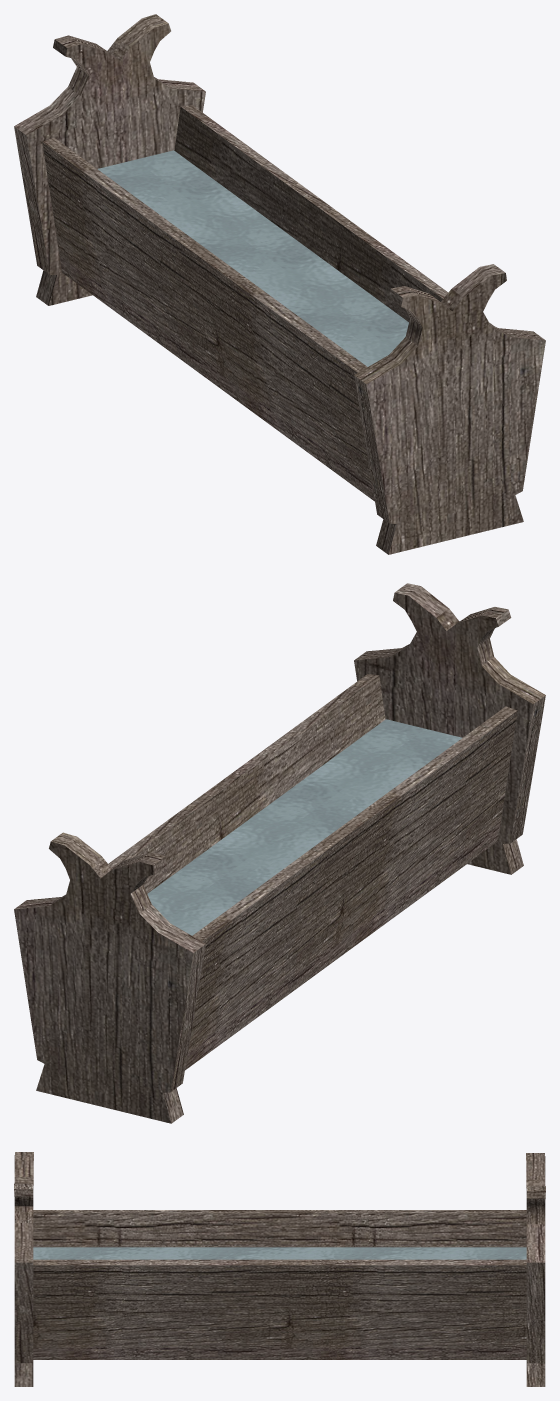
File: water_trough.FBX
3 renders of one model, top to bottom at view 1: azimuth 30°, elevation 25°; view 2: azimuth 150°, elevation 25°; view 3: azimuth 270°, elevation 25°, orthographic. The views are drawn at different scales.
Parts seen in each view (by area): view 1: water_trough; view 2: water_trough; view 3: water_trough.
Boxes of the visible parts, box(x1,y1,x2,y2) form: water_trough: box(14, 14, 545, 554); water_trough: box(14, 583, 545, 1123); water_trough: box(14, 1152, 545, 1386).
Size of the model in its own units: 5.33 by 7.21 by 18.15.
Materials: 2 (2 with a texture image).
